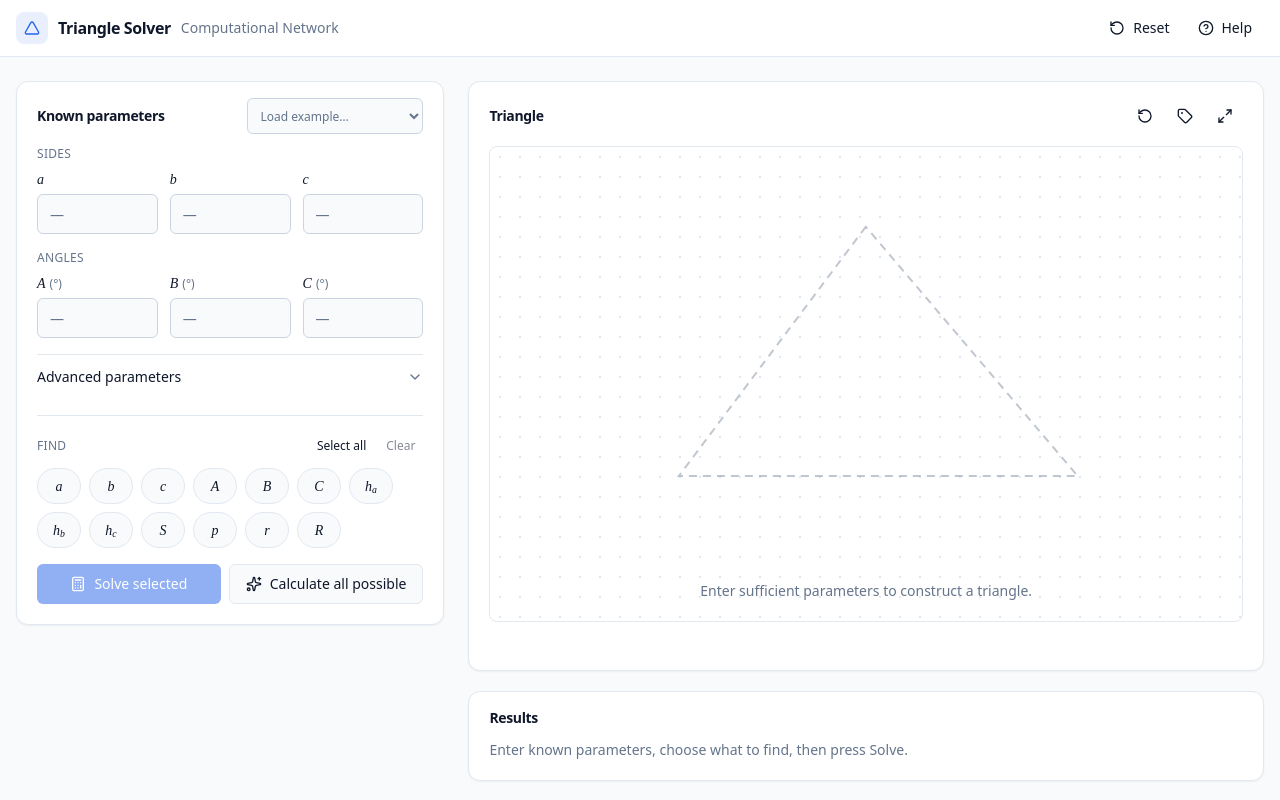
App › keeps advanced parameters collapsed until opened
Click the button "Advanced parameters" at (109, 376), box [37, 355, 423, 399]
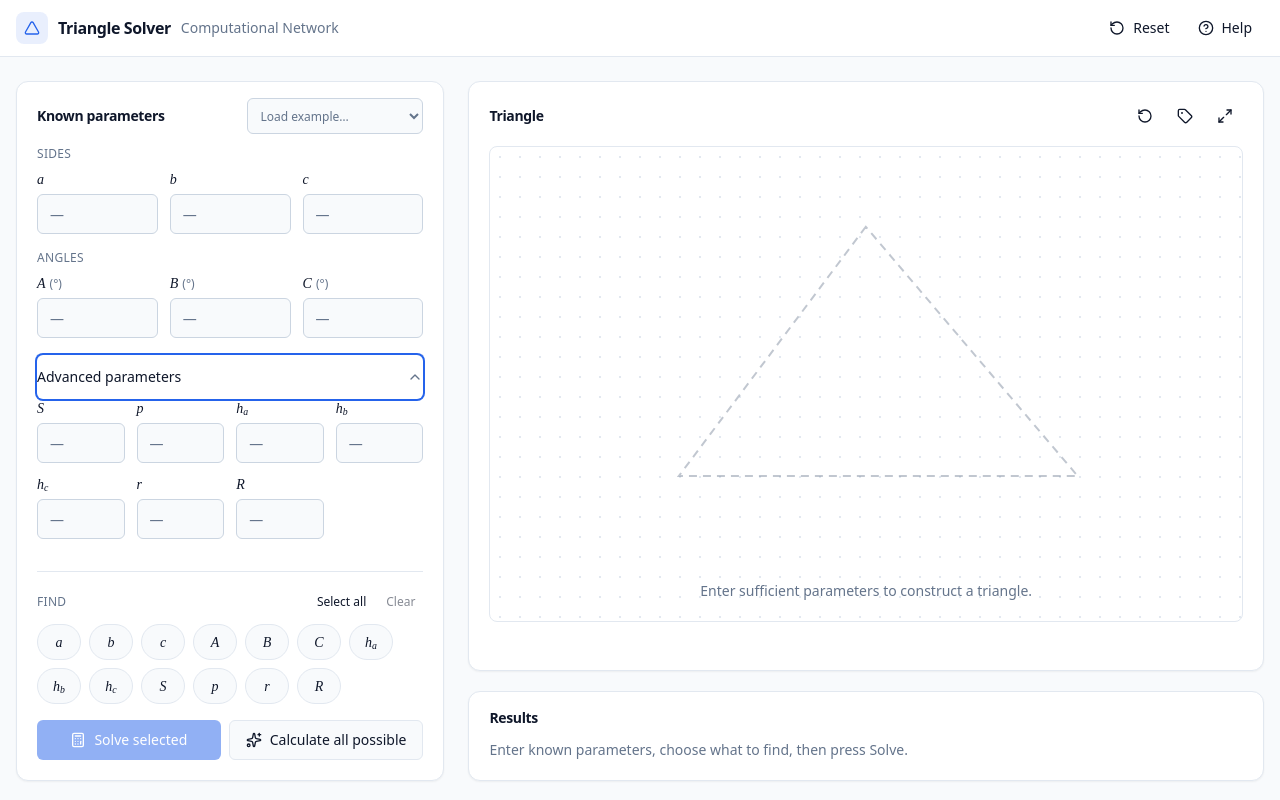
Expected: the field with id "input-S" is shown
Type "6" into the field with id "input-S" at (81, 443), box [37, 423, 125, 463]
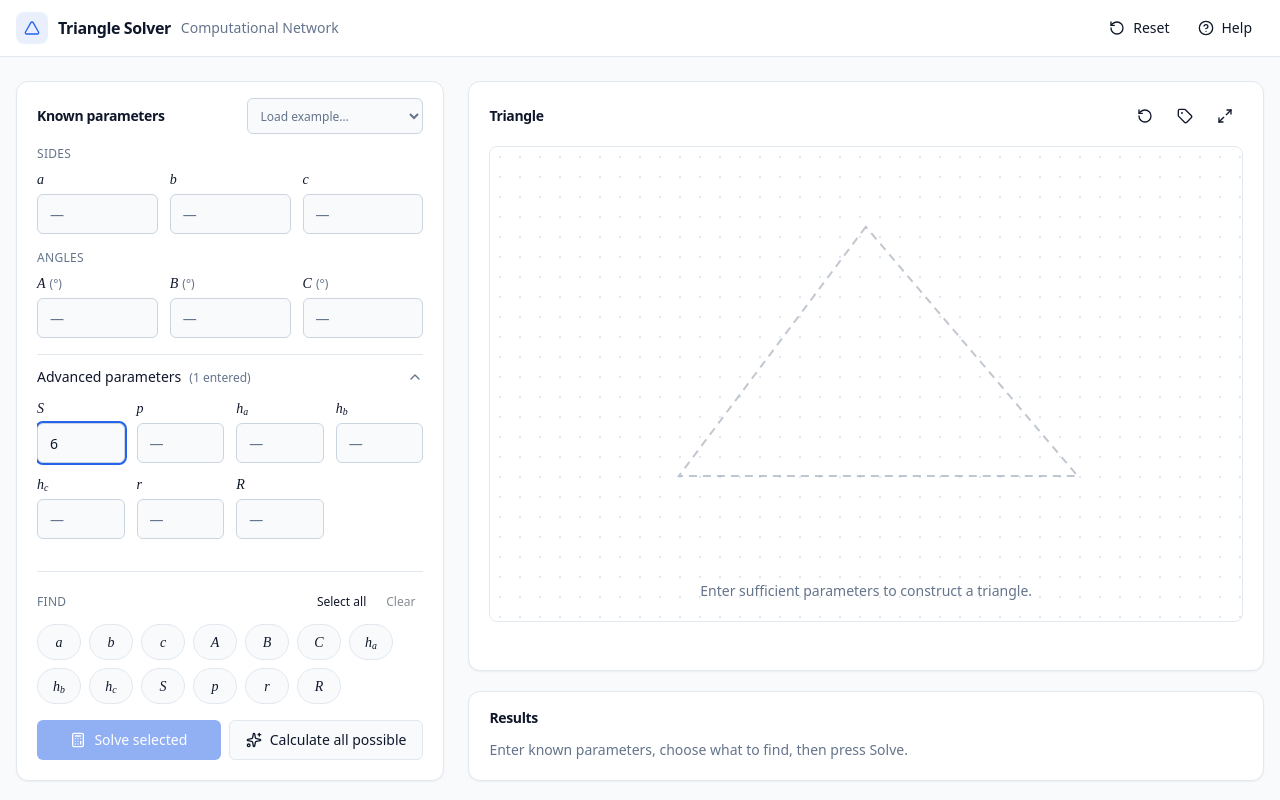
Expected: the text "(1 entered)" is shown, [189, 369, 251, 386]
